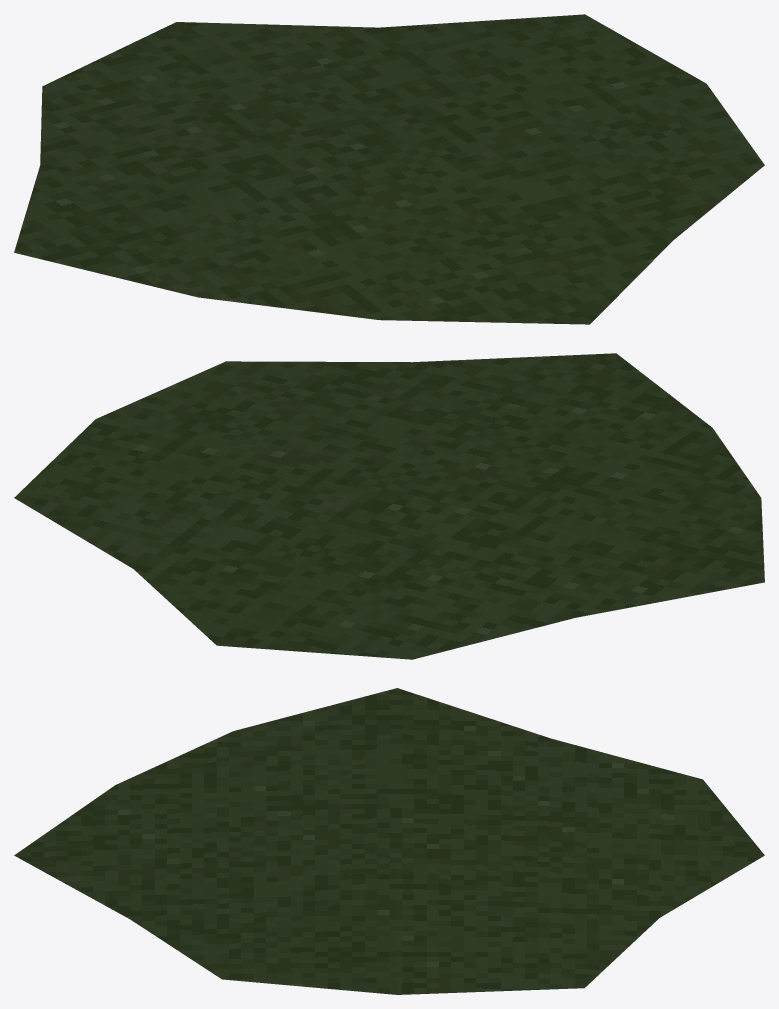
The model's file is level_hc_native_186_0.glb.
3 views of the same model, one above another, from view 1: azimuth 30°, elevation 25°; view 2: azimuth 150°, elevation 25°; view 3: azimuth 270°, elevation 25° (orthographic). The views are drawn at different scales.
Visible parts, largest first — view 1: level_hc_native_186_0; view 2: level_hc_native_186_0; view 3: level_hc_native_186_0.
Part boxes in pixels (x1,y1,x2,y2): level_hc_native_186_0: [14, 14, 764, 324]; level_hc_native_186_0: [14, 353, 764, 659]; level_hc_native_186_0: [14, 688, 764, 994].
Bounding box in the file's own units: 6.84 × 0.1 × 7.07.
Materials: 1 (1 with a texture image).
